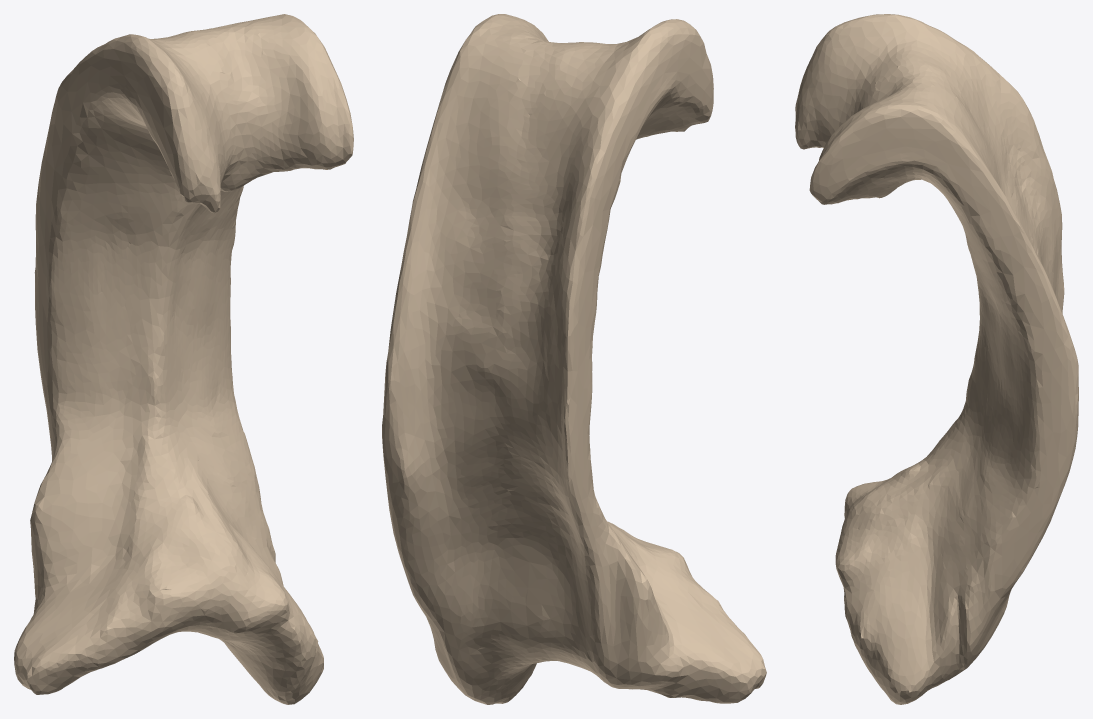
The model's file is CorpusCallosum.fbx.
3 renders of one model, left to right at view 1: azimuth 30°, elevation 25°; view 2: azimuth 150°, elevation 25°; view 3: azimuth 270°, elevation 25°, orthographic. The views are drawn at different scales.
Parts seen in each view (by area): view 1: Corpus Callosum; view 2: Corpus Callosum; view 3: Corpus Callosum.
Part boxes in pixels (bbox=[...]): Corpus Callosum: bbox=[14, 14, 353, 704]; Corpus Callosum: bbox=[382, 14, 766, 704]; Corpus Callosum: bbox=[795, 14, 1078, 704].
Bounding box in the file's own units: 11577 × 25765 × 10641.
